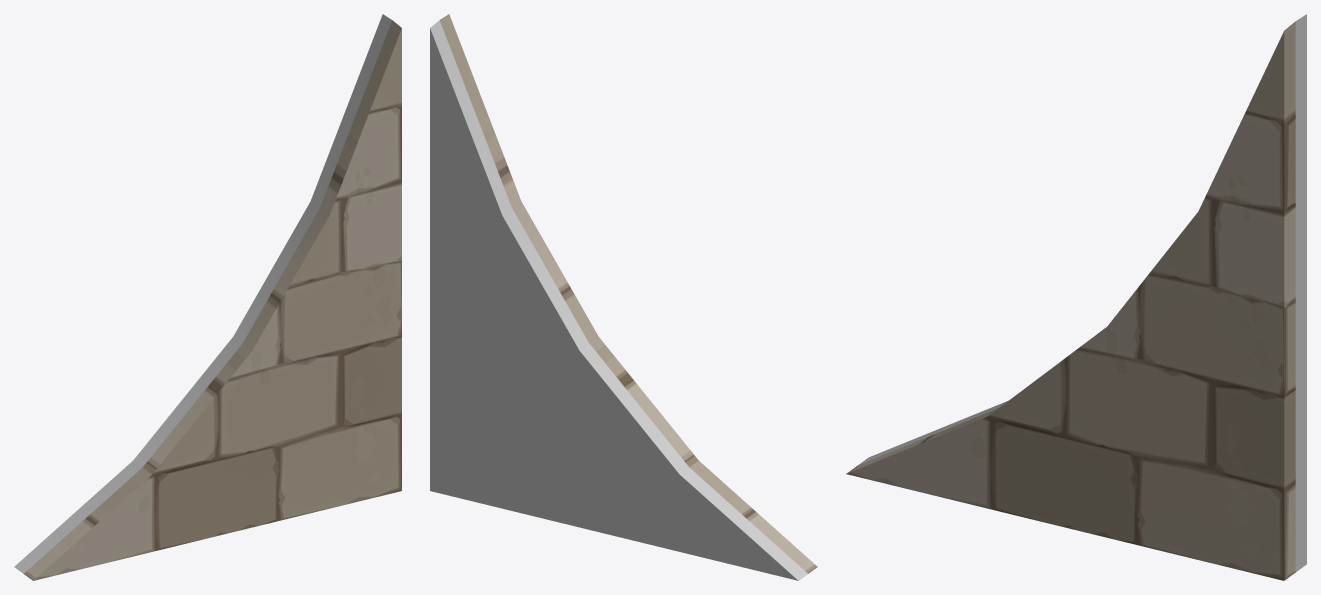
Rendered from SM_Bld_Wall_End_Concave_01.fbx.
3 renders of one model, left to right at view 1: azimuth 30°, elevation 25°; view 2: azimuth 150°, elevation 25°; view 3: azimuth 330°, elevation 25°, orthographic. The views are drawn at different scales.
Visible parts, largest first — view 1: SM_Bld_Wall_End_Concave_01; view 2: SM_Bld_Wall_End_Concave_01; view 3: SM_Bld_Wall_End_Concave_01.
Boxes of the visible parts, x1=… form: SM_Bld_Wall_End_Concave_01: x1=14, y1=14, x2=401, y2=580; SM_Bld_Wall_End_Concave_01: x1=430, y1=14, x2=817, y2=580; SM_Bld_Wall_End_Concave_01: x1=846, y1=14, x2=1306, y2=580.
Size of the model in its own units: 250 by 301 by 22.5.
